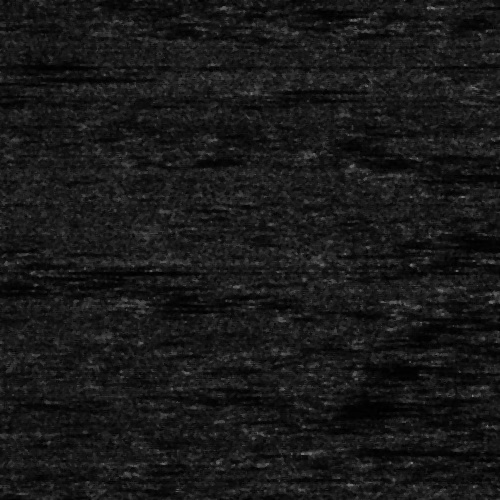object: (375, 161, 448, 186), (440, 383, 500, 398), (310, 443, 383, 454), (424, 2, 497, 7), (32, 267, 85, 272), (0, 73, 53, 78), (244, 88, 285, 93), (10, 59, 21, 64)
shadow: (412, 161, 500, 186), (347, 443, 500, 454), (21, 73, 170, 78), (59, 267, 202, 272), (15, 59, 80, 64), (265, 88, 315, 93), (460, 2, 500, 7)
